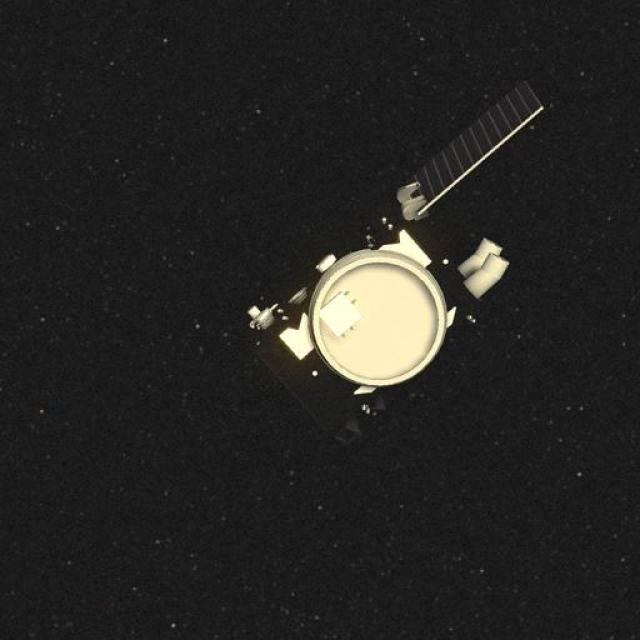proba_3_csc: (242, 84, 558, 428)
